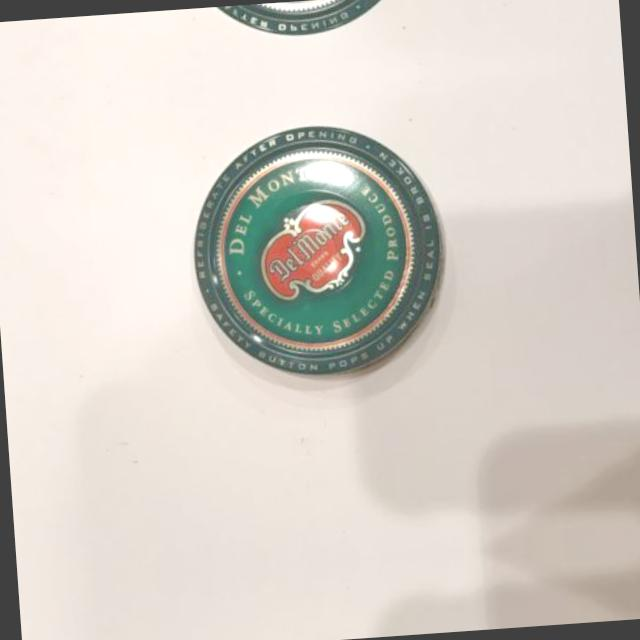Metal: (162, 107, 472, 417), (154, 0, 445, 51)
